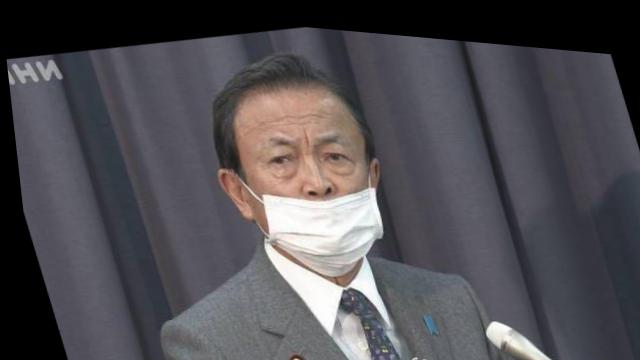WRONG: (228, 102, 396, 283)
